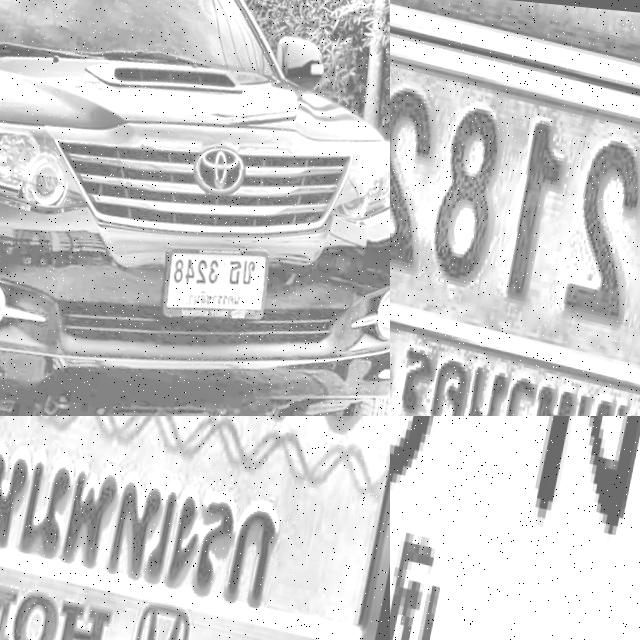license-plate: (390, 0, 640, 416), (0, 416, 390, 640), (390, 416, 640, 640), (154, 216, 282, 334)
